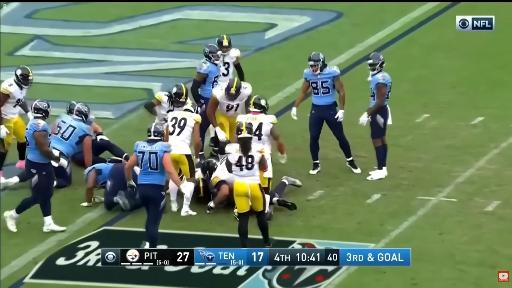Helmet: (168, 84, 188, 107), (367, 52, 385, 75), (225, 77, 242, 101), (15, 66, 33, 88), (308, 52, 326, 73), (201, 159, 218, 180), (31, 100, 50, 118), (194, 178, 211, 198), (73, 103, 90, 122), (250, 96, 269, 113), (147, 123, 165, 140), (204, 44, 220, 63), (217, 35, 231, 55), (236, 122, 253, 137), (183, 103, 199, 114), (66, 102, 77, 115)
Jersey: (51, 115, 92, 158), (134, 141, 171, 185), (237, 113, 277, 152), (226, 144, 264, 183), (167, 111, 201, 154), (213, 82, 252, 118), (304, 67, 340, 105), (26, 119, 51, 163), (0, 78, 26, 118), (197, 59, 219, 98), (155, 92, 182, 122), (219, 48, 240, 85), (370, 72, 391, 106), (210, 158, 234, 185), (85, 164, 113, 187)
Player: (4, 100, 68, 232), (125, 123, 193, 247), (292, 52, 361, 174), (226, 123, 271, 247), (237, 96, 286, 193), (360, 52, 391, 180), (0, 66, 33, 183), (191, 44, 220, 161), (207, 78, 252, 143), (166, 104, 201, 182), (51, 103, 92, 167), (87, 112, 129, 164), (86, 114, 129, 164), (104, 164, 142, 211), (202, 158, 234, 213), (144, 84, 185, 123), (266, 177, 301, 219), (217, 35, 244, 85), (81, 164, 113, 206)
